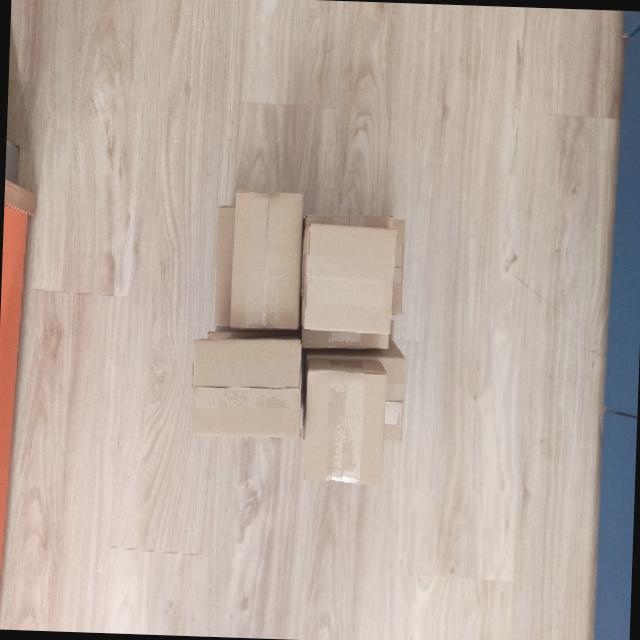box: (187, 334, 305, 441), (224, 186, 306, 334), (299, 219, 400, 336), (299, 357, 386, 488)
